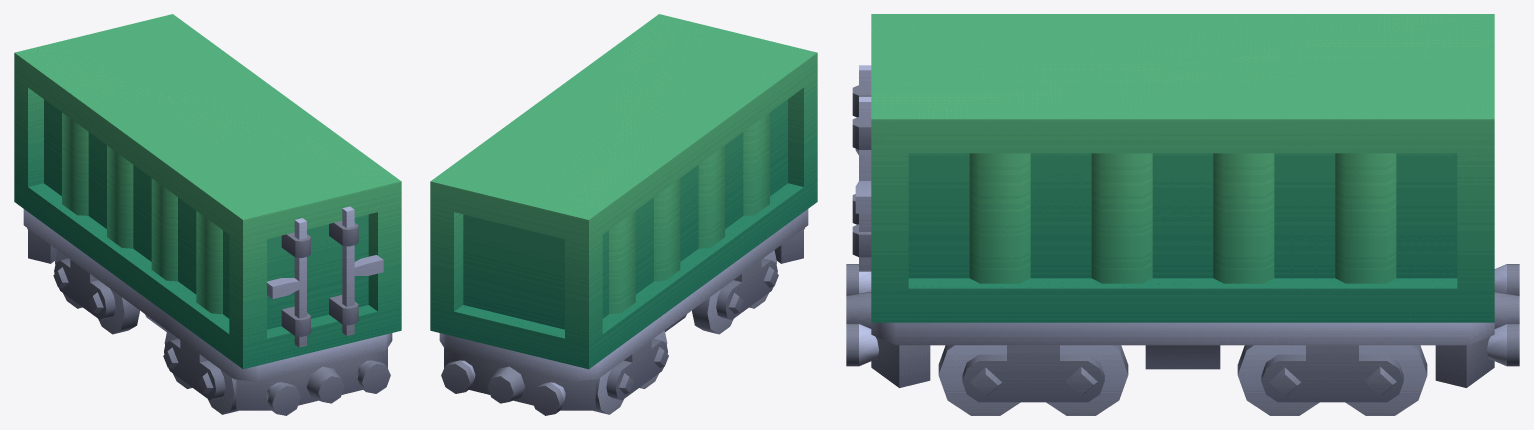
Rendered from train-carriage-container-green.glb.
3 views of the same model, side by side, from view 1: azimuth 30°, elevation 25°; view 2: azimuth 150°, elevation 25°; view 3: azimuth 270°, elevation 25° (orthographic). The views are drawn at different scales.
Visible parts, largest first — view 1: cargo, train-carriage-container-green, wheels-back, wheels-front; view 2: cargo, train-carriage-container-green, wheels-front, wheels-back; view 3: cargo, train-carriage-container-green, wheels-back, wheels-front.
Boxes of the visible parts, <box> form: cargo: <box>14,14,401,369</box>; train-carriage-container-green: <box>23,209,392,415</box>; wheels-back: <box>53,250,139,334</box>; wheels-front: <box>163,330,238,414</box>; cargo: <box>430,14,817,369</box>; train-carriage-container-green: <box>439,209,808,415</box>; wheels-front: <box>692,250,778,334</box>; wheels-back: <box>593,330,668,414</box>; cargo: <box>852,14,1494,322</box>; train-carriage-container-green: <box>846,264,1519,387</box>; wheels-back: <box>1237,345,1427,415</box>; wheels-front: <box>938,345,1128,415</box>.
Size of the model in its own units: 1 by 1.36 by 2.7.
Materials: 1 (1 with a texture image).
